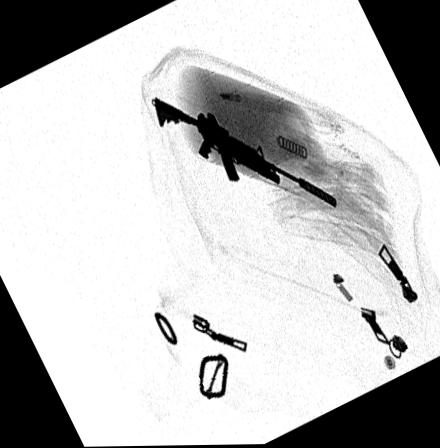Gun: (150, 94, 338, 207)
